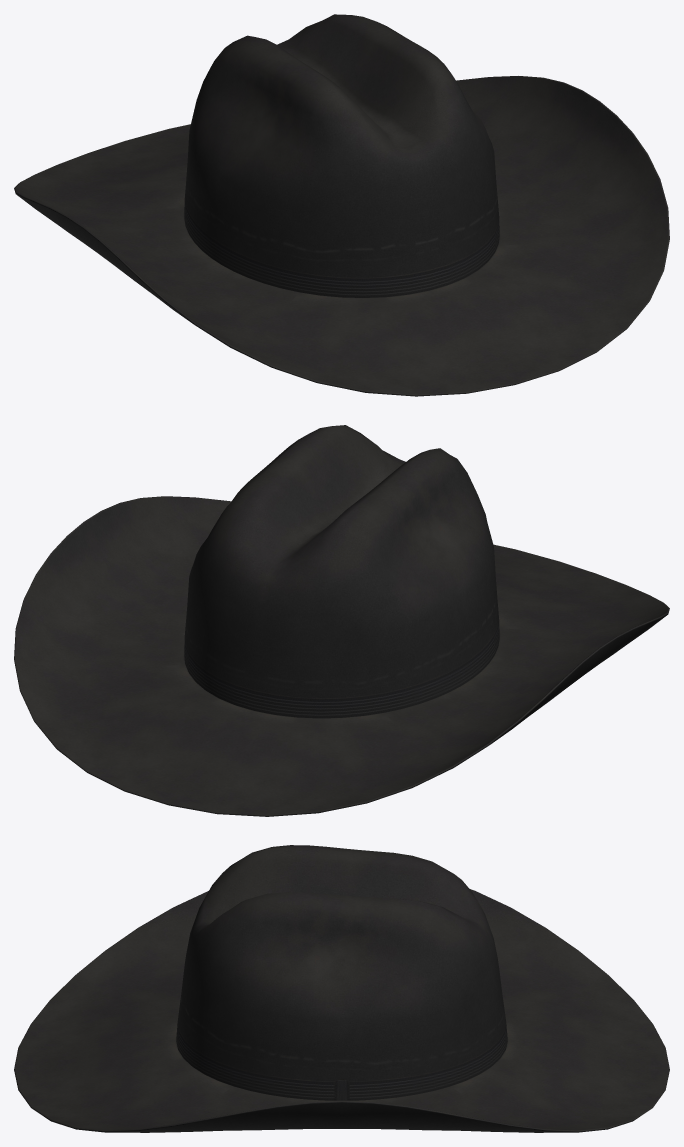
File: cowboy_hat.glb
3 views of the same model, one above another, from view 1: azimuth 30°, elevation 25°; view 2: azimuth 150°, elevation 25°; view 3: azimuth 270°, elevation 25° (orthographic). The views are drawn at different scales.
Visible parts, largest first — view 1: cowboy_hat; view 2: cowboy_hat; view 3: cowboy_hat.
Boxes of the visible parts, x1=… form: cowboy_hat: x1=14, y1=14, x2=669, y2=396; cowboy_hat: x1=14, y1=425, x2=669, y2=816; cowboy_hat: x1=14, y1=845, x2=669, y2=1132.
Bounding box in the file's own units: 0.3428 × 0.1349 × 0.3991.
Materials: 1 (1 with a texture image).
